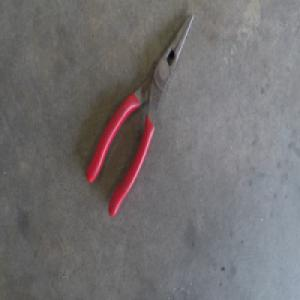Pliers: (87, 17, 194, 217)
